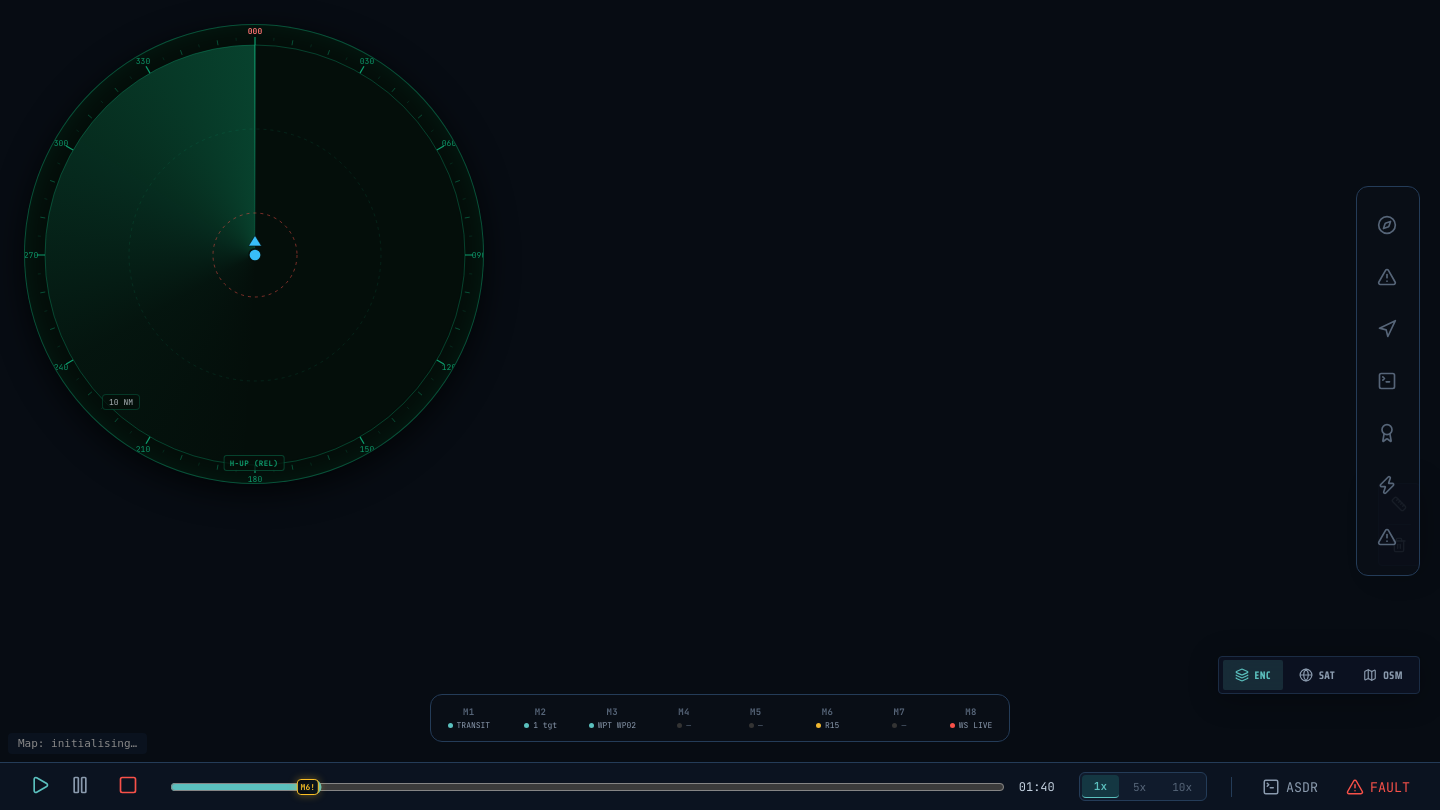
it: SimulationMonitor › displays YAML 场景配置 as default voyage source and renders dynamic calculated data
Click the button with test id "right-tab-ship".
click(1388, 225)  # box [1366, 203, 1410, 247]
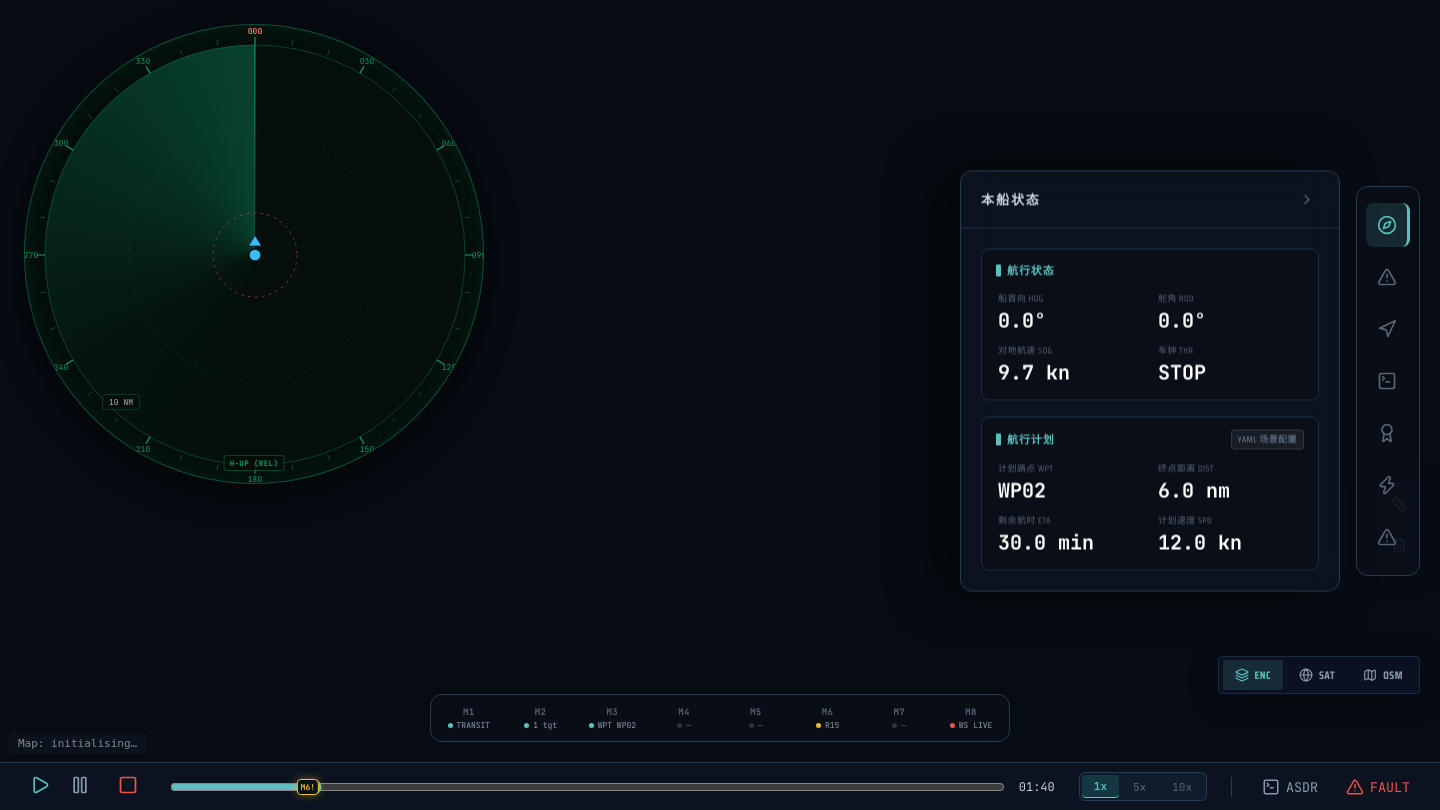
expect the text "YAML 场景配置" is shown: met, box [1231, 430, 1304, 450]
expect the text "12.0 kn" is shown: met, box [1158, 530, 1242, 556]
expect the text "WP02" is shown: met, box [998, 478, 1046, 504]
